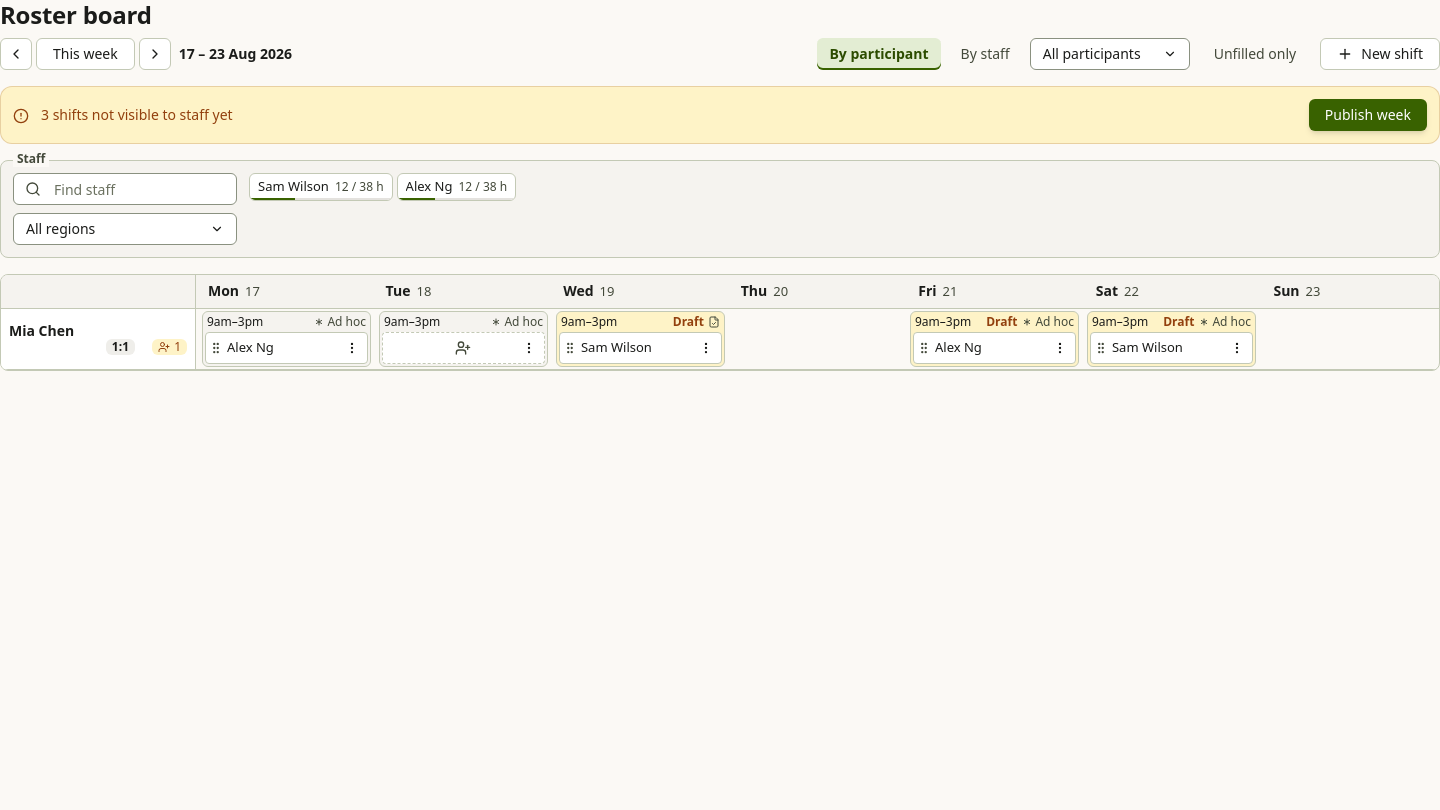
Scenario: the Publish banner › after publishing, focus is on the week heading, never on body
Step 1. Click the button "Publish week" → x=1368, y=115, box [1309,99,1427,131]
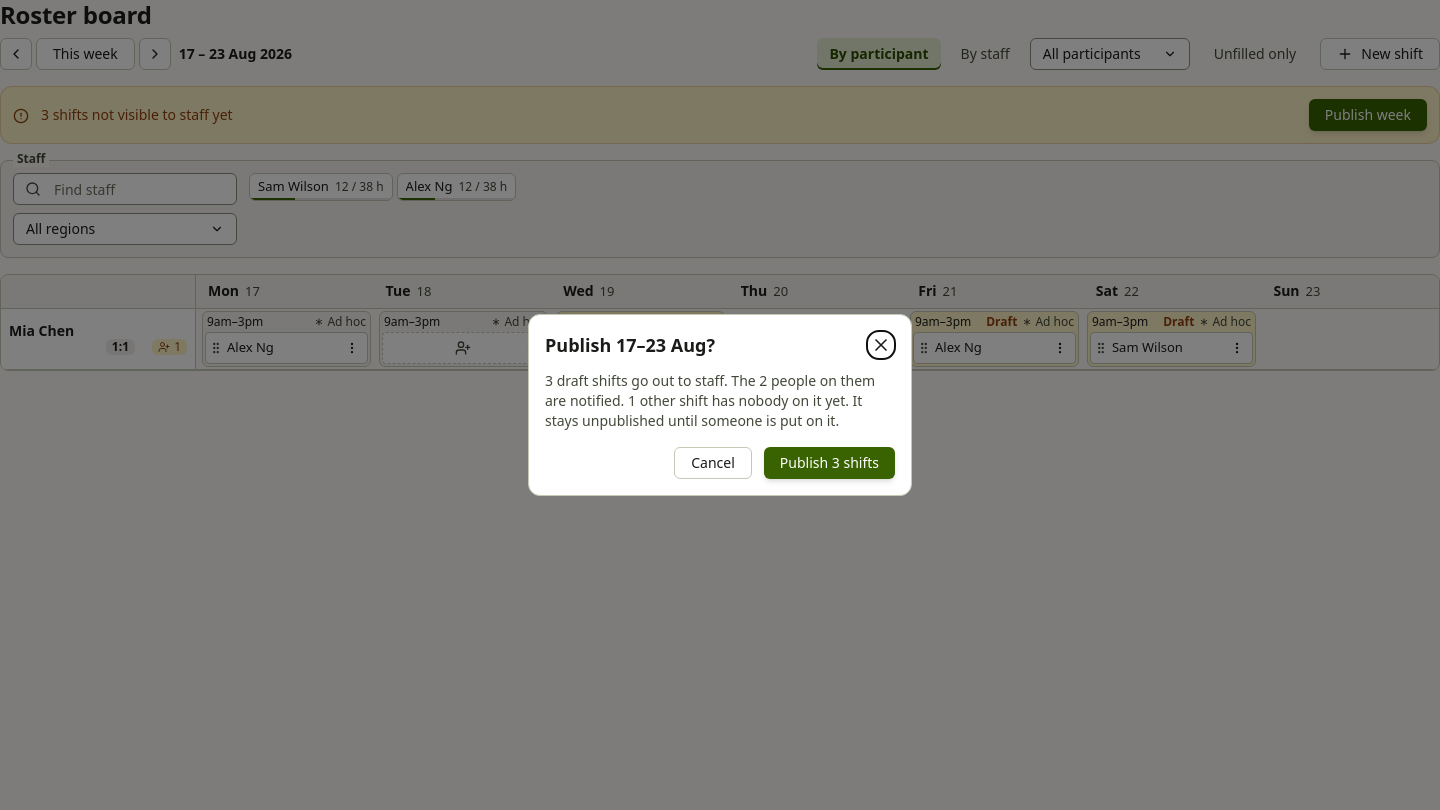
Step 2. Click the button "Publish 3 shifts" → x=829, y=463, box [764,447,895,479]
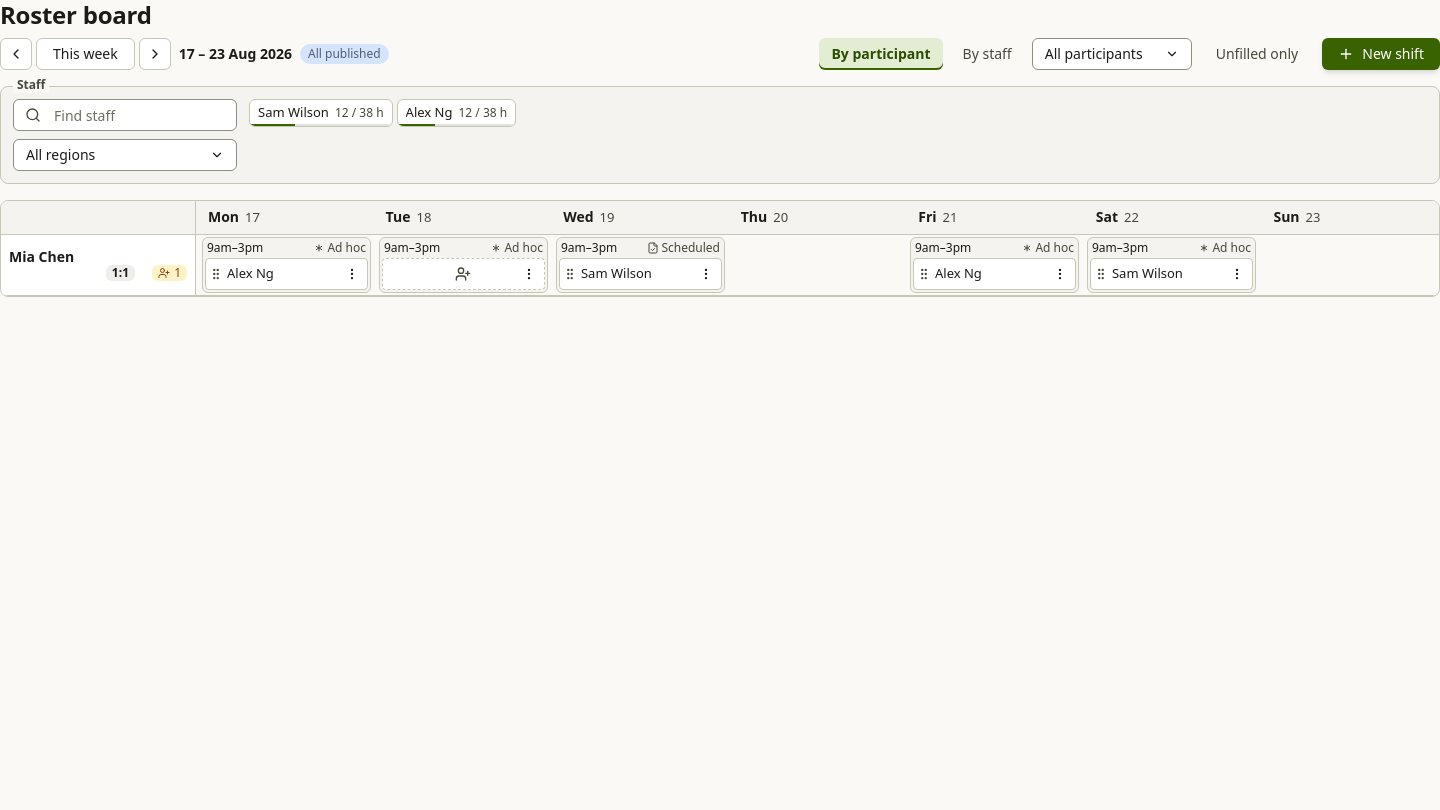
expect the text "not visible to staff yet" is gone: met
